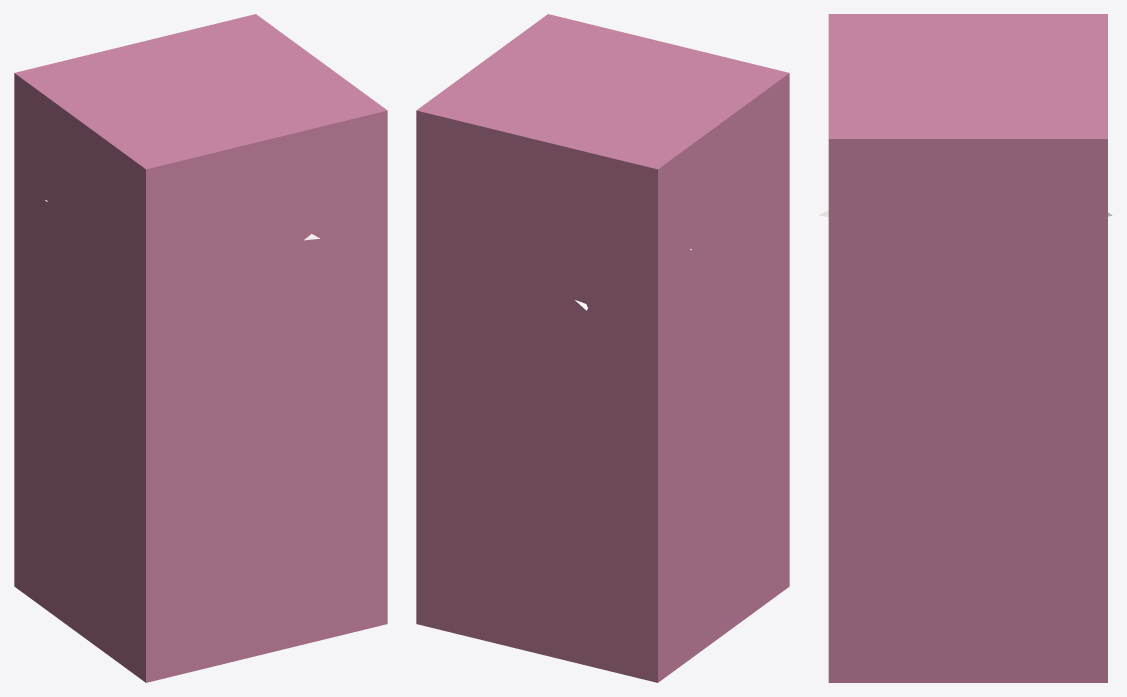
File: tree_palm_b.dae
3 renders of one model, left to right at view 1: azimuth 30°, elevation 25°; view 2: azimuth 150°, elevation 25°; view 3: azimuth 270°, elevation 25°, orthographic. The views are drawn at different scales.
Visible parts, largest first — view 1: Untitled; view 2: Untitled; view 3: Untitled.
Boxes of the visible parts, x1=… form: Untitled: x1=14, y1=14, x2=387, y2=682; Untitled: x1=416, y1=14, x2=789, y2=682; Untitled: x1=828, y1=14, x2=1107, y2=682.
Bounding box in the file's own units: 6.46 × 6.39 × 13.05.
